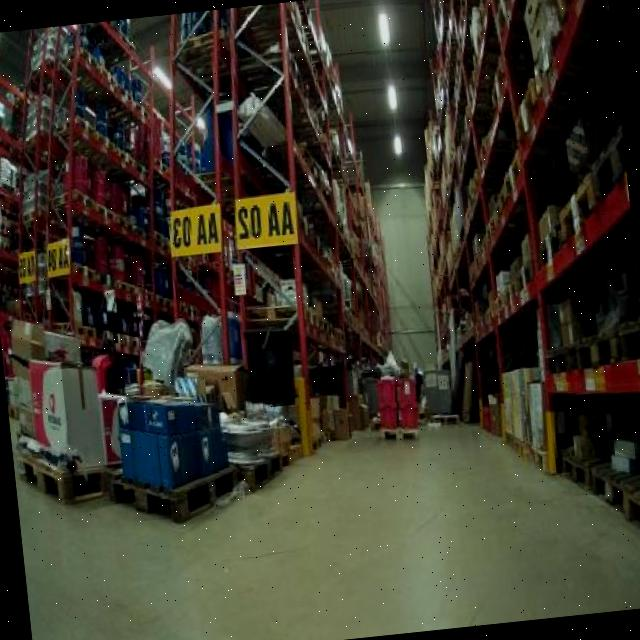pallet: (111, 457, 246, 529), (13, 441, 109, 511), (551, 161, 603, 255), (583, 120, 628, 208), (513, 66, 547, 153), (587, 457, 634, 517), (235, 448, 291, 498), (499, 428, 550, 482), (571, 323, 619, 375), (554, 445, 600, 496), (612, 475, 640, 538), (612, 309, 640, 370), (376, 426, 420, 446), (428, 410, 462, 430)
